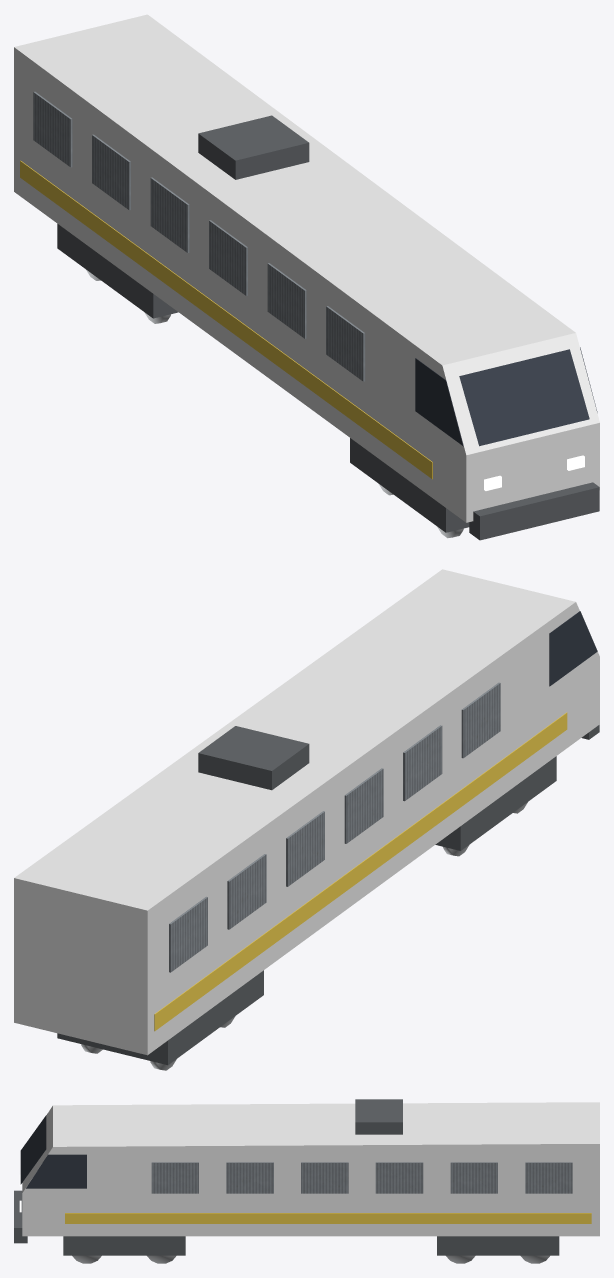
File: locomotive.gltf
3 views of the same model, one above another, from view 1: azimuth 30°, elevation 25°; view 2: azimuth 150°, elevation 25°; view 3: azimuth 270°, elevation 25° (orthographic). The views are drawn at different scales.
Visible parts, largest first — view 1: locomotive; view 2: locomotive; view 3: locomotive.
Boxes of the visible parts, bbox=[...] form: locomotive: bbox=[14, 14, 599, 540]; locomotive: bbox=[14, 569, 599, 1070]; locomotive: bbox=[14, 1099, 599, 1263].
Bounding box in the file's own units: 0.596 × 0.9175 × 3.45.
7 materials, 1 textured.
